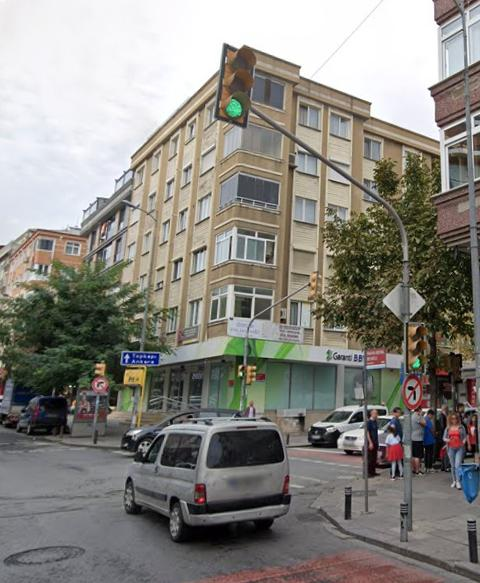greenlight: (224, 44, 252, 121), (406, 321, 427, 369)
leftturnsareforbidden: (404, 375, 421, 405)
rightturnsareforbidden: (92, 377, 108, 393)
